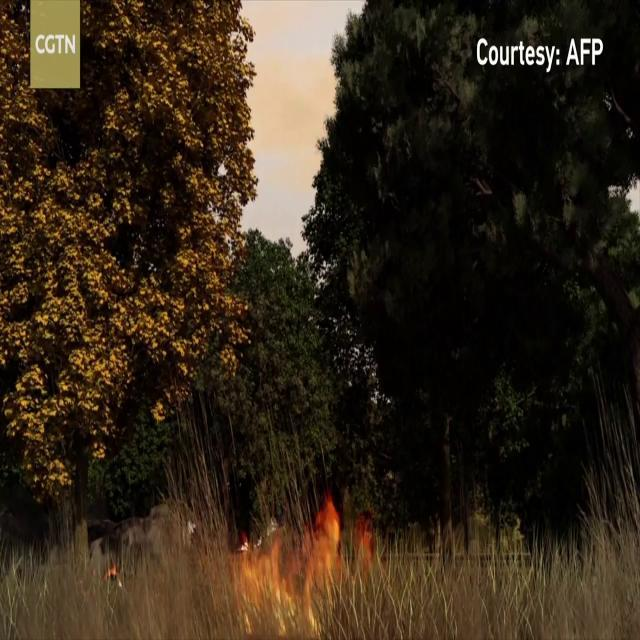Fire: (230, 490, 362, 634)
